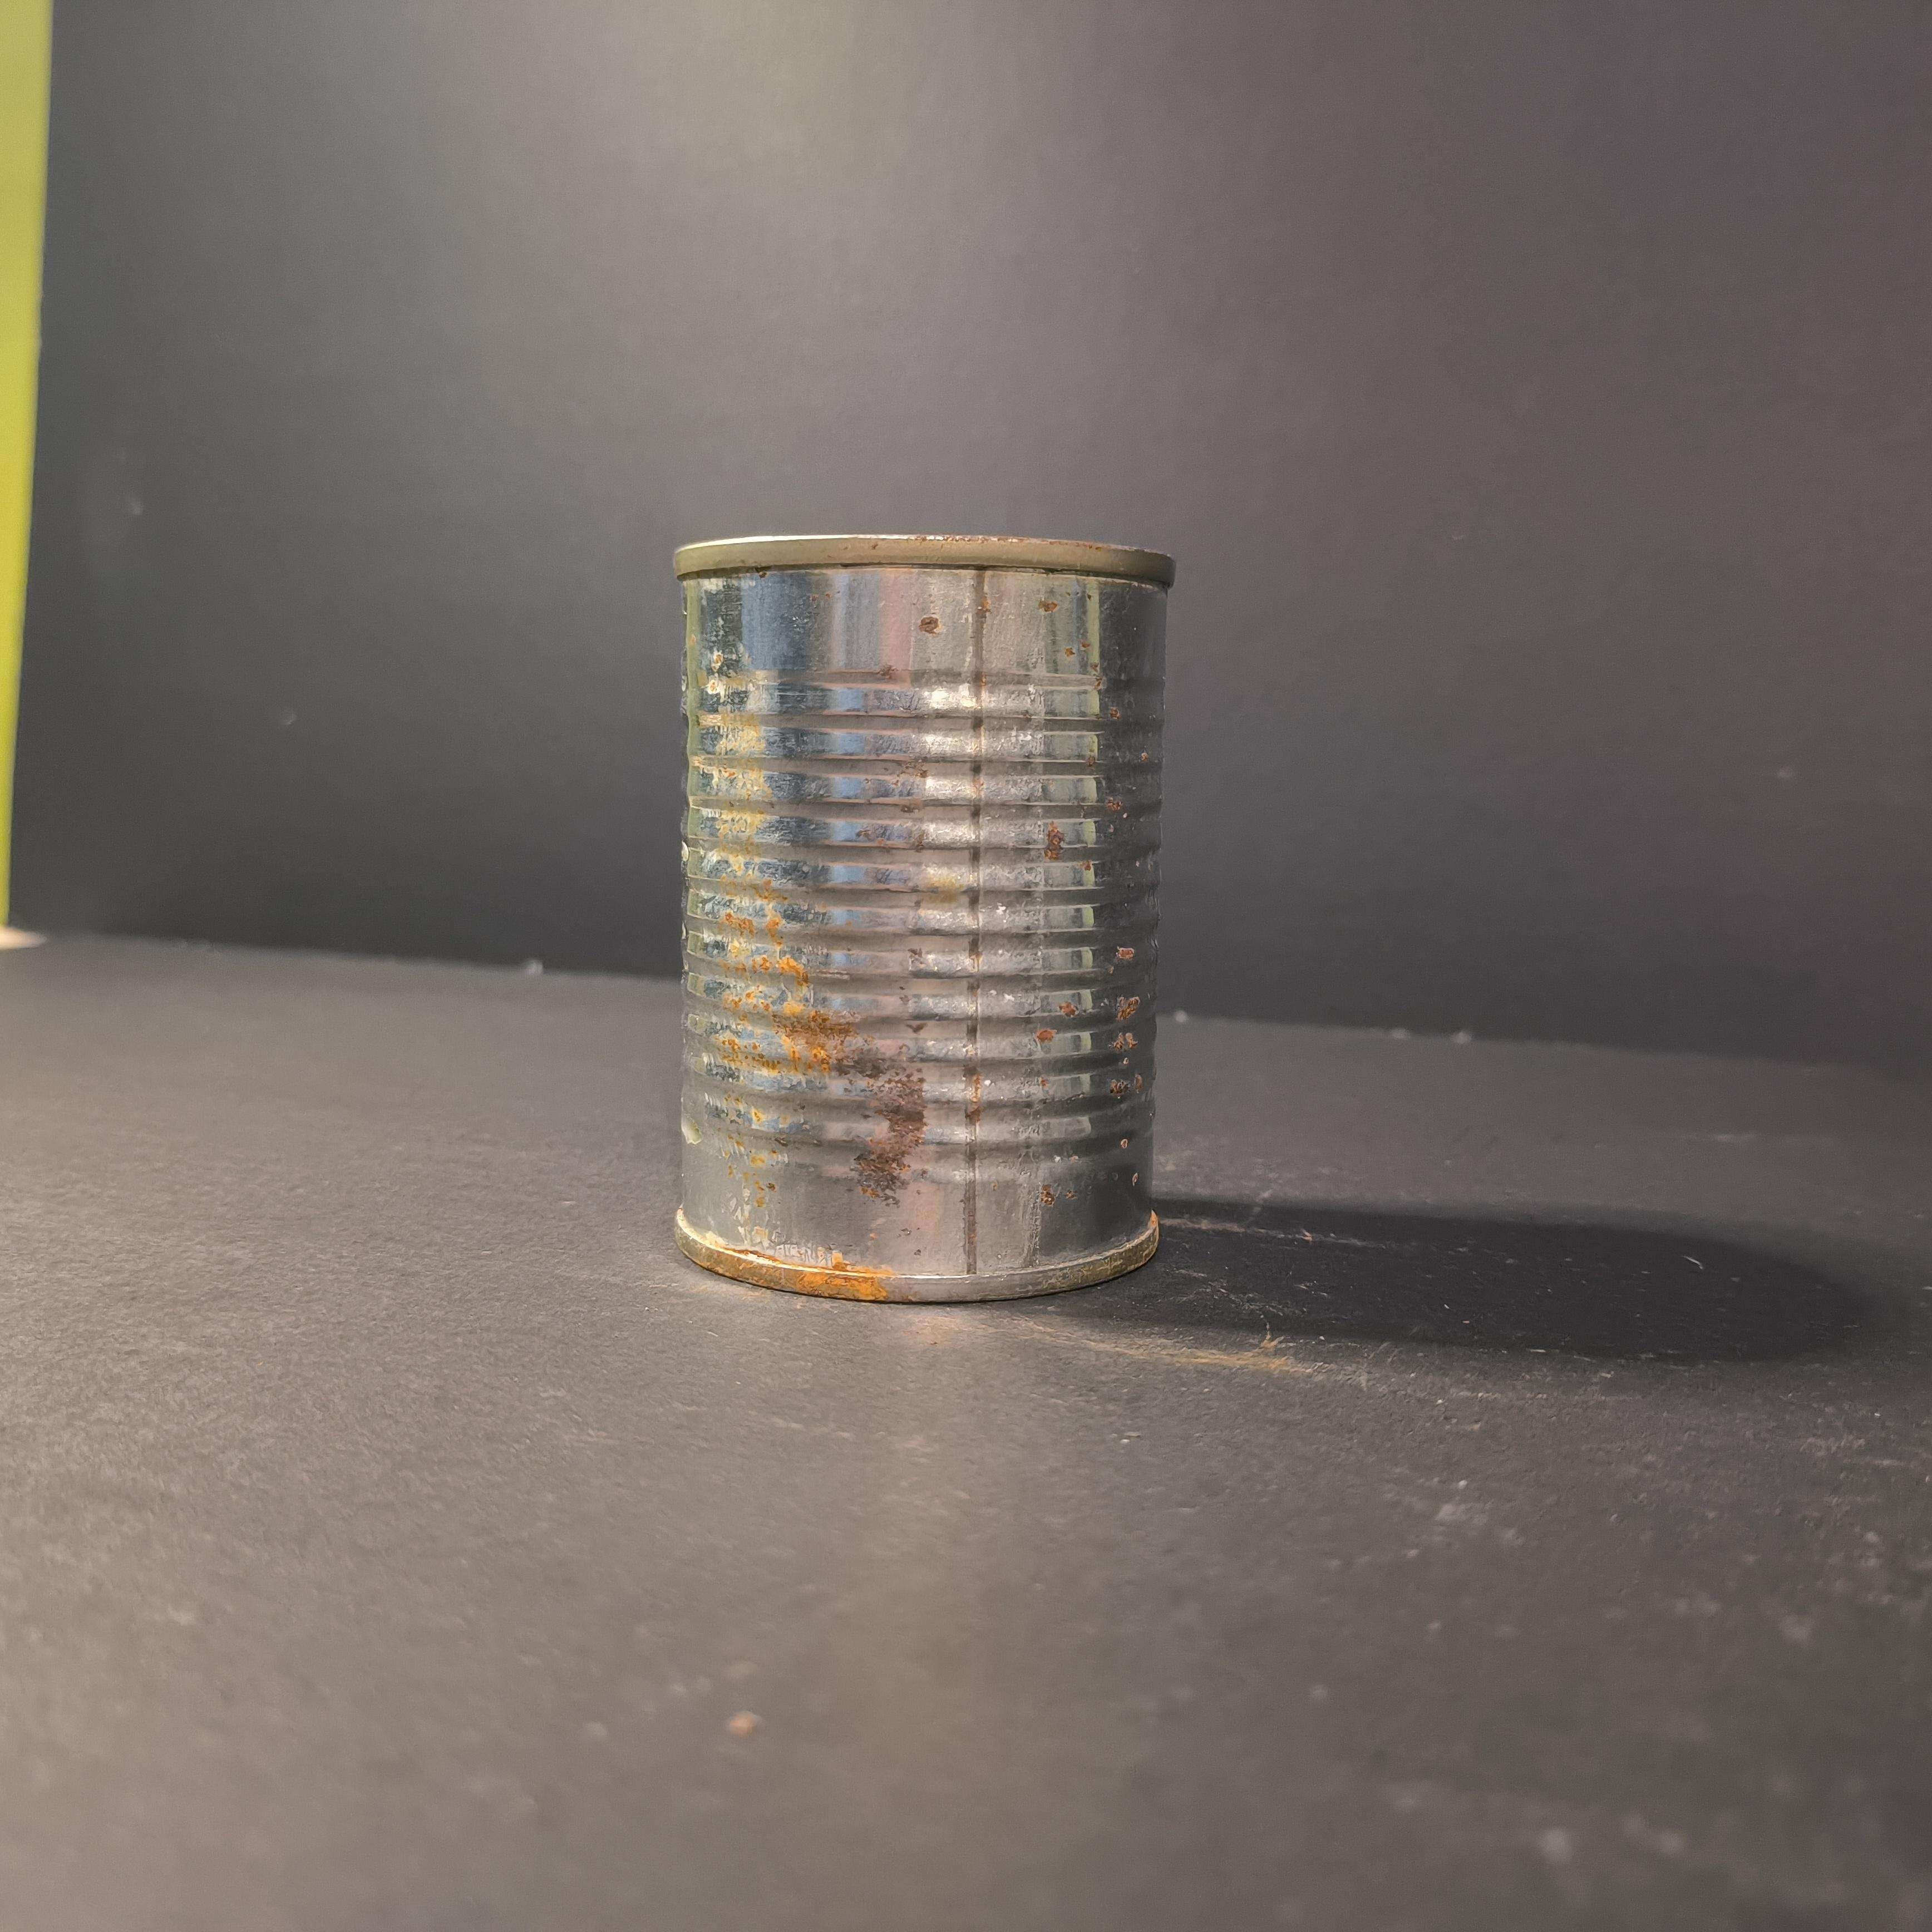Rusted: (651, 492, 1230, 1341)
